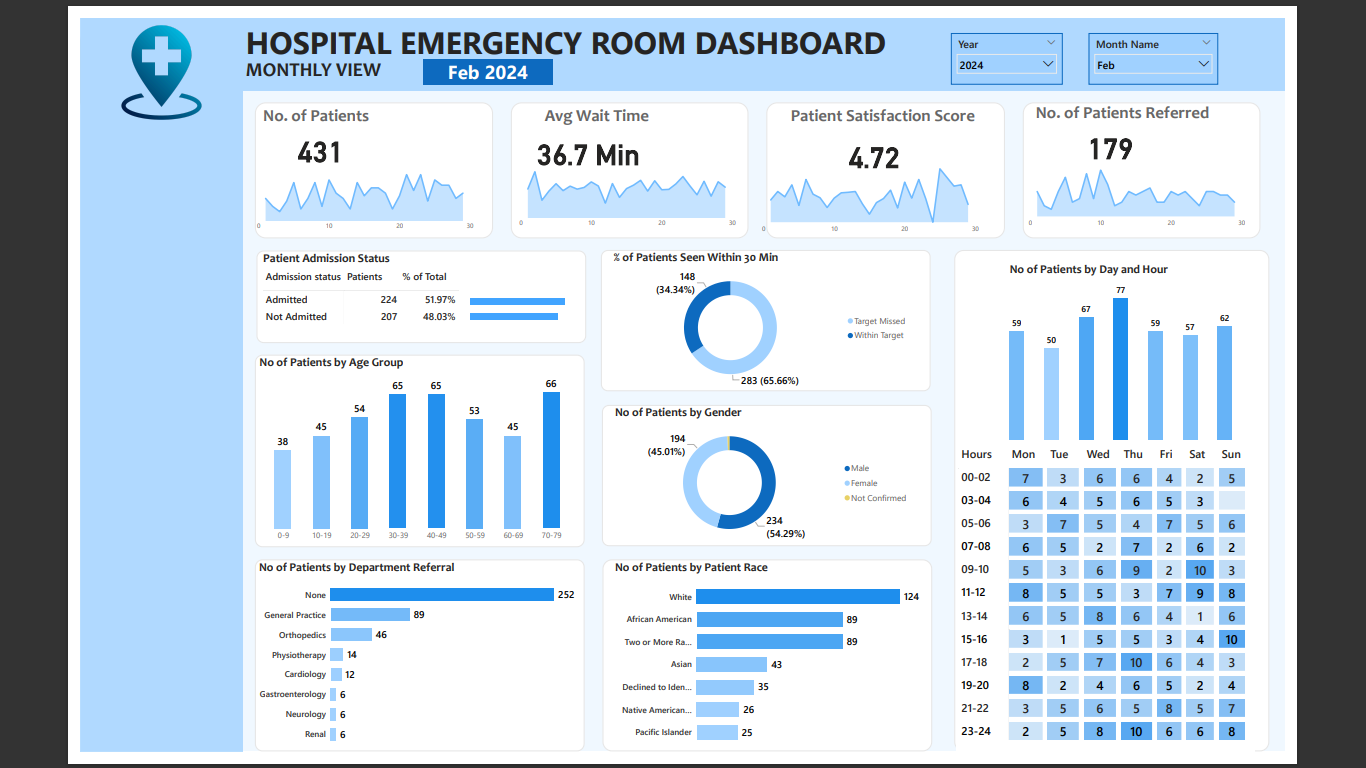

This screenshot's page, from the dashboard's own definition file:
{"tool":"powerbi","page":{"name":"Monthly View","canvas":[2300,1400],"ordinal":0},"visuals":[{"type":"shape","box":[822.3,159.6,453.6,260.4],"z":0},{"type":"shape","box":[333.2,159.6,455,260.4],"z":1000},{"type":"shape","box":[310.9,0,1989.1,138.8],"z":2000},{"type":"shape","box":[0,0,310.9,1400.5],"z":3000},{"type":"textbox","box":[310.9,0,1279.8,126.8],"z":4000},{"type":"textbox","box":[310.9,69.4,295.8,69.4],"z":5000},{"type":"card","fields":{"Values":["Hospital ER_Data.No of Patients"]},"box":[310.8,159.6,294,176.4],"z":6000},{"type":"slicer","fields":{"Values":["Date Table.Year"]},"box":[1663.2,28,212.8,98],"z":7000},{"type":"slicer","fields":{"Values":["Date Table.Month Name"]},"box":[1926.4,28,246.4,98],"z":8000},{"type":"textbox","box":[344.4,159.6,263.2,70],"z":9000},{"type":"areaChart","fields":{"Y":["Hospital ER_Data.No of Patients"],"Category":["Date Table.Date.Variation.Date Hierarchy.Day"]},"box":[324.8,268.8,434,145.6],"z":10000},{"type":"card","fields":{"Values":["Min(Date Table.Month & Year)"]},"box":[655.2,78.4,246.4,47.6],"z":11000},{"type":"textbox","box":[882,159.6,263.2,70],"z":12000},{"type":"areaChart","fields":{"Category":["Date Table.Date.Variation.Date Hierarchy.Day"],"Y":["Avg(Hospital ER_Data.Patient Waittime)"]},"box":[826,263.2,434,145.6],"z":13000},{"type":"shape","box":[1309.9,159.6,456.4,260.4],"z":14000},{"type":"textbox","box":[1352.4,159.6,414.4,70],"z":15000},{"type":"areaChart","fields":{"Category":["Date Table.Date.Variation.Date Hierarchy.Day"],"Y":["Hospital ER_Data.Satisfaction Score"]},"box":[1289.6,273.2,434,145.6],"z":16000},{"type":"shape","box":[1800.4,159.6,453.6,260.4],"z":17000},{"type":"textbox","box":[1820,154,392,70],"z":18000},{"type":"areaChart","fields":{"Category":["Date Table.Date.Variation.Date Hierarchy.Day"],"Y":["Hospital ER_Data.No of Patients Referred"]},"box":[1799.2,262,434,145.6],"z":19000},{"type":"card","fields":{"Values":["Hospital ER_Data.Avg Wait Time"]},"box":[823.2,165.2,294,176.4],"z":20000},{"type":"shape","box":[336,443.3,630,177],"z":21000},{"type":"card","fields":{"Values":["Hospital ER_Data.Satisfaction Score"]},"box":[1369.2,170.8,294,176.4],"z":22000},{"type":"card","fields":{"Values":["Hospital ER_Data.No of Patients Referred"]},"box":[1820,154,294,176.4],"z":23000},{"type":"pivotTable","title":"Patient Admission Status","fields":{"Rows":["Hospital ER_Data.Admission status"],"Values":["Hospital ER_Data.No of Patients1","Hospital ER_Data.No of Patients"]},"box":[344.4,443.3,621.6,176.4],"z":24000},{"type":"barChart","fields":{"Category":["Hospital ER_Data.Admission status"],"Y":["Hospital ER_Data.No of Patients"]},"box":[739.2,507.7,252,89.6],"z":25000},{"type":"shape","box":[333.2,642.4,630,368],"z":26000},{"type":"clusteredColumnChart","fields":{"Category":["Hospital ER_Data.Age Group"],"Y":["Hospital ER_Data.No of Patients"]},"box":[336.5,641.3,614.3,366.7],"z":27000},{"type":"shape","box":[333.2,1033.2,630,366.8],"z":28000},{"type":"clusteredBarChart","fields":{"Category":["Hospital ER_Data.Department Referral"],"Y":["Hospital ER_Data.No of Patients"]},"box":[336,1033.2,616,366.8],"z":29000},{"type":"shape","box":[994,442.4,630,270],"z":30000},{"type":"donutChart","title":"% of Patients Seen Within 30 Min","fields":{"Category":["Hospital ER_Data.Waittime"],"Y":["Hospital ER_Data.No of Patients"]},"box":[1013.6,442.4,576.8,268.8],"z":31000},{"type":"shape","box":[996.1,738.1,630,270],"z":32000},{"type":"donutChart","title":"No of Patients by Gender","fields":{"Y":["Hospital ER_Data.No of Patients"],"Category":["Hospital ER_Data.Patient Gender"]},"box":[1015.7,738.1,576.8,268.8],"z":33000},{"type":"shape","box":[996.8,1033.3,630.2,366.7],"z":34000},{"type":"clusteredBarChart","fields":{"Y":["Hospital ER_Data.No of Patients"],"Category":["Hospital ER_Data.Patient Race"]},"box":[1015.9,1033.3,592.1,366.7],"z":35000},{"type":"shape","box":[1668.8,442.4,602,957.6],"z":36000},{"type":"pivotTable","fields":{"Rows":["Hospital ER_Data.Waittime Interval"],"Columns":["Date Table.Day Name"],"Values":["Hospital ER_Data.No of Patients"]},"box":[1673.3,810,570,590],"z":37000},{"type":"columnChart","title":"No of Patients by Day and Hour","fields":{"Category":["Date Table.Day Name"],"Y":["Hospital ER_Data.No of Patients"]},"box":[1770,465,436.7,345],"z":38000},{"type":"image","box":[43.3,8.3,223.3,190],"z":38001}]}

Visuals, with their boxes on the page's 2300x1400 design canvas (x1, y1, x2, y2). These are canvas units, not pixel positions in the 1366x768 screenshot, which may show the page scaled, cropped or inside an application window:
shape: bbox=[822, 160, 1276, 420]
shape: bbox=[333, 160, 788, 420]
shape: bbox=[311, 0, 2300, 139]
shape: bbox=[0, 0, 311, 1400]
textbox: bbox=[311, 0, 1591, 127]
textbox: bbox=[311, 69, 607, 139]
card - Hospital ER_Data.No of Patients: bbox=[311, 160, 605, 336]
slicer - Date Table.Year: bbox=[1663, 28, 1876, 126]
slicer - Date Table.Month Name: bbox=[1926, 28, 2173, 126]
textbox: bbox=[344, 160, 608, 230]
areaChart - Hospital ER_Data.No of Patients x Date Table.Date.Variation.Date Hierarchy.Day: bbox=[325, 269, 759, 414]
card - Min(Date Table.Month & Year): bbox=[655, 78, 902, 126]
textbox: bbox=[882, 160, 1145, 230]
areaChart - Date Table.Date.Variation.Date Hierarchy.Day x Avg(Hospital ER_Data.Patient Waittime): bbox=[826, 263, 1260, 409]
shape: bbox=[1310, 160, 1766, 420]
textbox: bbox=[1352, 160, 1767, 230]
areaChart - Date Table.Date.Variation.Date Hierarchy.Day x Hospital ER_Data.Satisfaction Score: bbox=[1290, 273, 1724, 419]
shape: bbox=[1800, 160, 2254, 420]
textbox: bbox=[1820, 154, 2212, 224]
areaChart - Date Table.Date.Variation.Date Hierarchy.Day x Hospital ER_Data.No of Patients Referred: bbox=[1799, 262, 2233, 408]
card - Hospital ER_Data.Avg Wait Time: bbox=[823, 165, 1117, 342]
shape: bbox=[336, 443, 966, 620]
card - Hospital ER_Data.Satisfaction Score: bbox=[1369, 171, 1663, 347]
card - Hospital ER_Data.No of Patients Referred: bbox=[1820, 154, 2114, 330]
"Patient Admission Status" pivotTable: bbox=[344, 443, 966, 620]
barChart - Hospital ER_Data.Admission status x Hospital ER_Data.No of Patients: bbox=[739, 508, 991, 597]
shape: bbox=[333, 642, 963, 1010]
clusteredColumnChart - Hospital ER_Data.Age Group x Hospital ER_Data.No of Patients: bbox=[336, 641, 951, 1008]
shape: bbox=[333, 1033, 963, 1400]
clusteredBarChart - Hospital ER_Data.Department Referral x Hospital ER_Data.No of Patients: bbox=[336, 1033, 952, 1400]
shape: bbox=[994, 442, 1624, 712]
"% of Patients Seen Within 30 Min" donutChart: bbox=[1014, 442, 1590, 711]
shape: bbox=[996, 738, 1626, 1008]
"No of Patients by Gender" donutChart: bbox=[1016, 738, 1592, 1007]
shape: bbox=[997, 1033, 1627, 1400]
clusteredBarChart - Hospital ER_Data.No of Patients x Hospital ER_Data.Patient Race: bbox=[1016, 1033, 1608, 1400]
shape: bbox=[1669, 442, 2271, 1400]
pivotTable - Hospital ER_Data.Waittime Interval x Date Table.Day Name: bbox=[1673, 810, 2243, 1400]
"No of Patients by Day and Hour" columnChart: bbox=[1770, 465, 2207, 810]
image: bbox=[43, 8, 267, 198]
